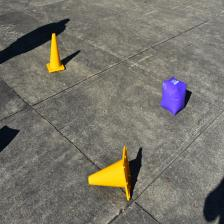cone: (88, 145, 132, 202), (46, 33, 66, 74)
cube: (161, 76, 187, 117)
